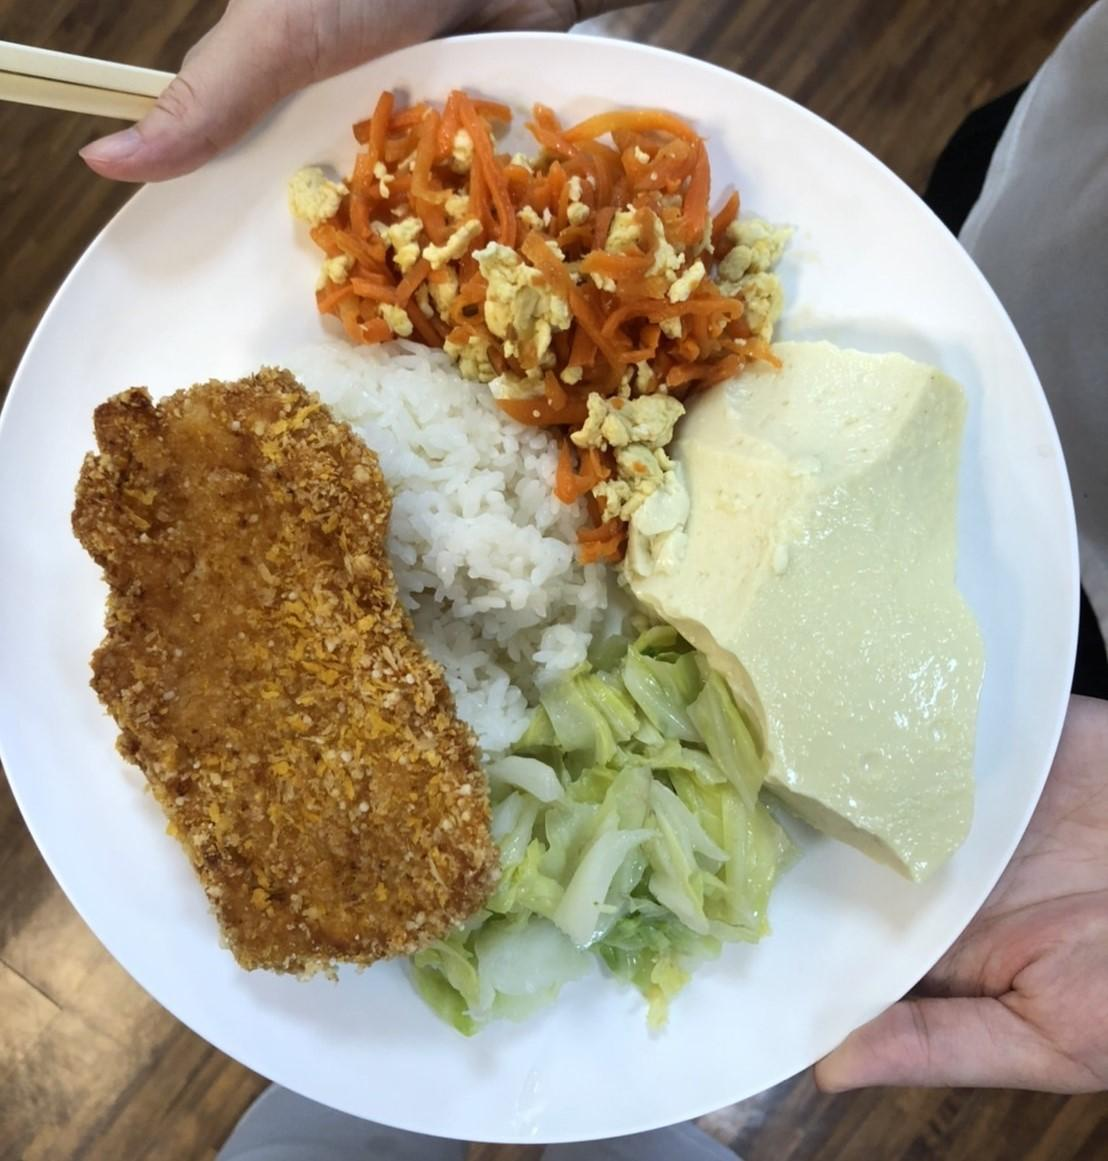big fried chicken leg: (5, 33, 1108, 1142)
big herbal chicken leg: (338, 340, 628, 761)
braised fish fillet: (295, 84, 798, 561), (620, 333, 994, 899), (424, 623, 800, 1028)
braised pork: (68, 386, 492, 972)
